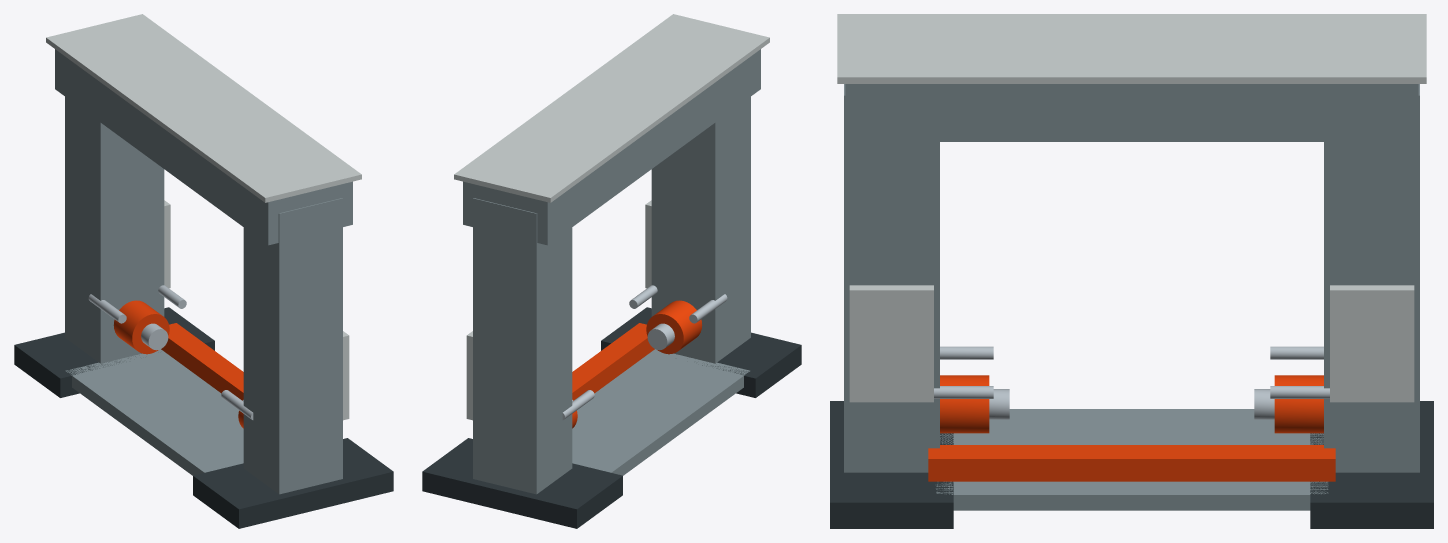
File: cap_portal.dae
The picture shows the model from 3 angles, left to right: view 1: azimuth 30°, elevation 25°; view 2: azimuth 150°, elevation 25°; view 3: azimuth 270°, elevation 25°; orthographic projection. The views are drawn at different scales.
Parts seen in each view (by area): view 1: cap_portal; view 2: cap_portal; view 3: cap_portal.
Part boxes in pixels (x1,y1,x2,y2): cap_portal: (14, 14, 393, 528); cap_portal: (422, 14, 801, 528); cap_portal: (830, 14, 1433, 528).
Bounding box in the file's own units: 1.65 × 4.15 × 3.28.
